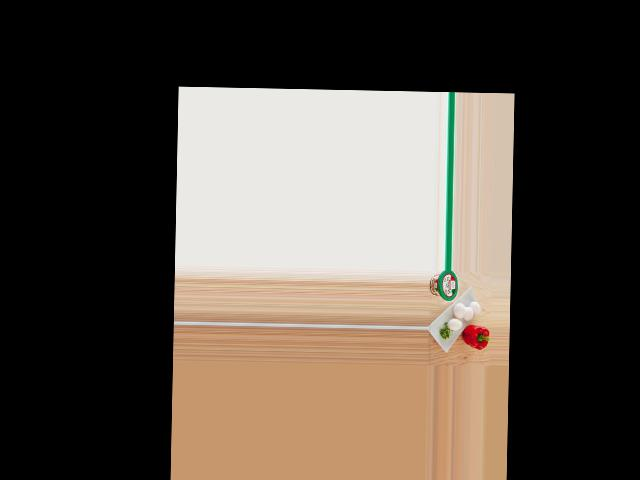bell_pepper: (462, 320, 489, 351)
